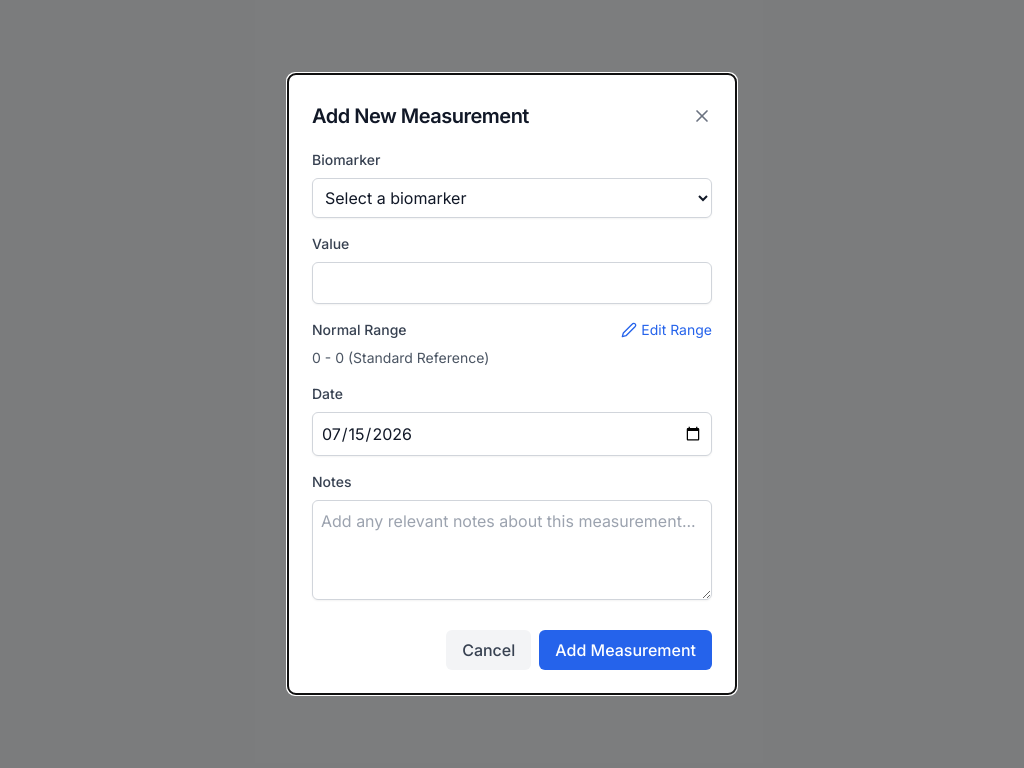
Test: AddMeasurementModal › Form Submission › keeps the modal open and shows an inline error when the save fails
Select "Glucose" in the dropdown at (512, 198), box [312,178,712,218]
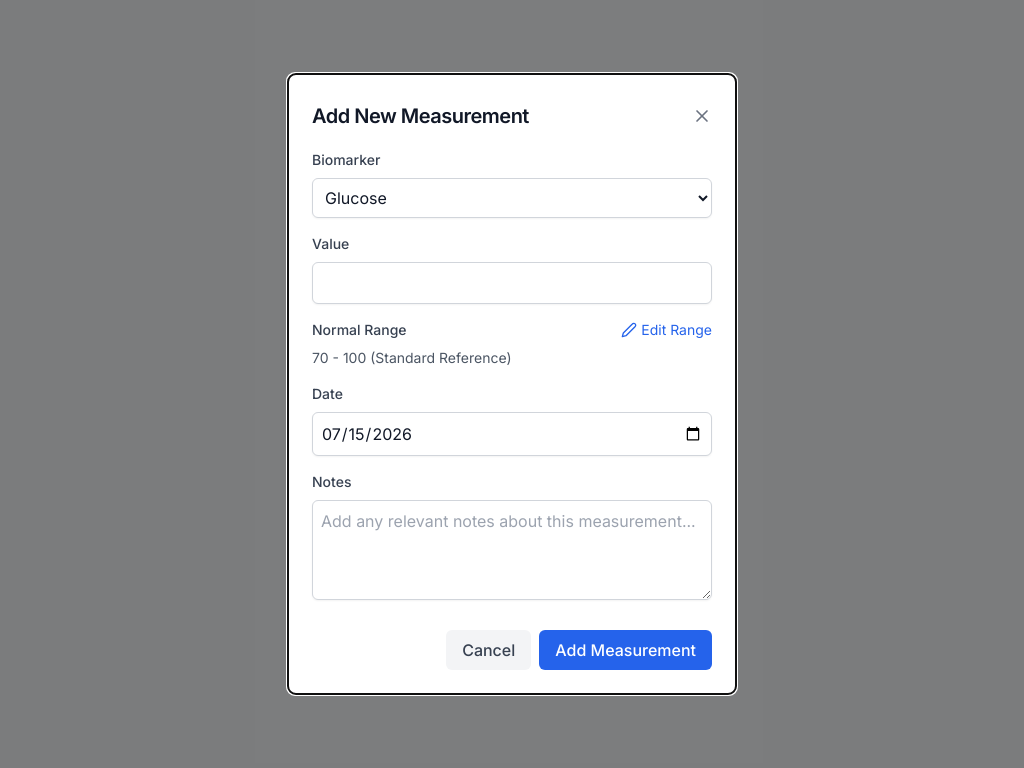
Type "95" into the number field.
click(512, 283); type("95")  # box [312,262,712,304]
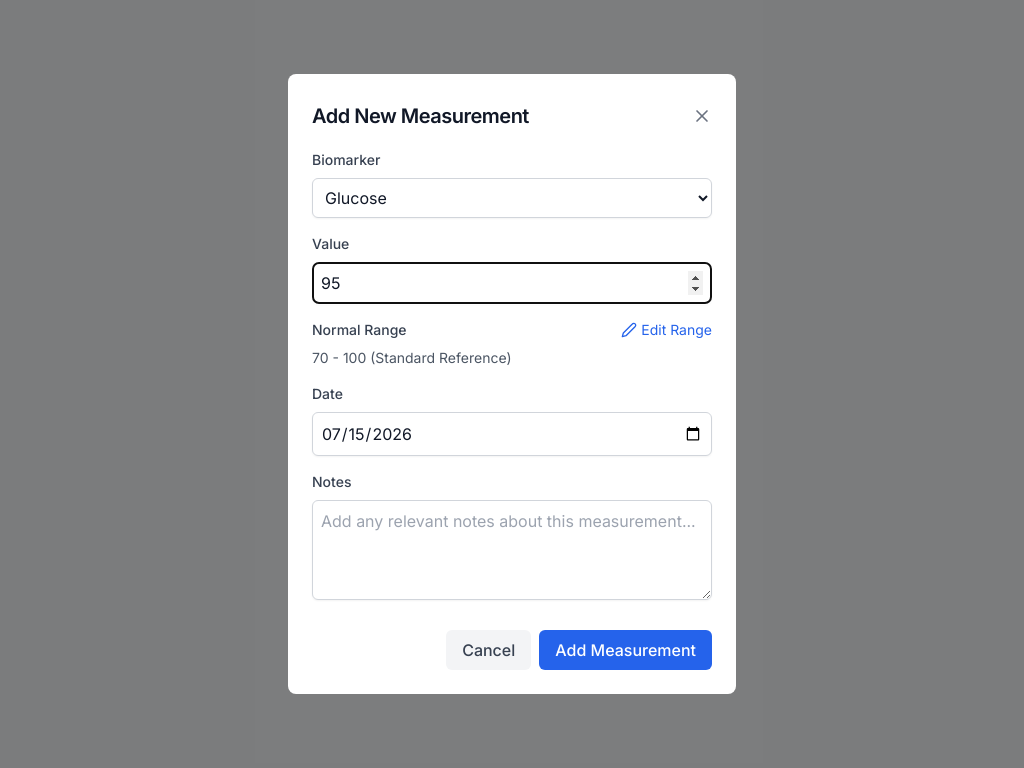
Click the button "Add Measurement".
click(626, 650)  # box [539,630,712,670]
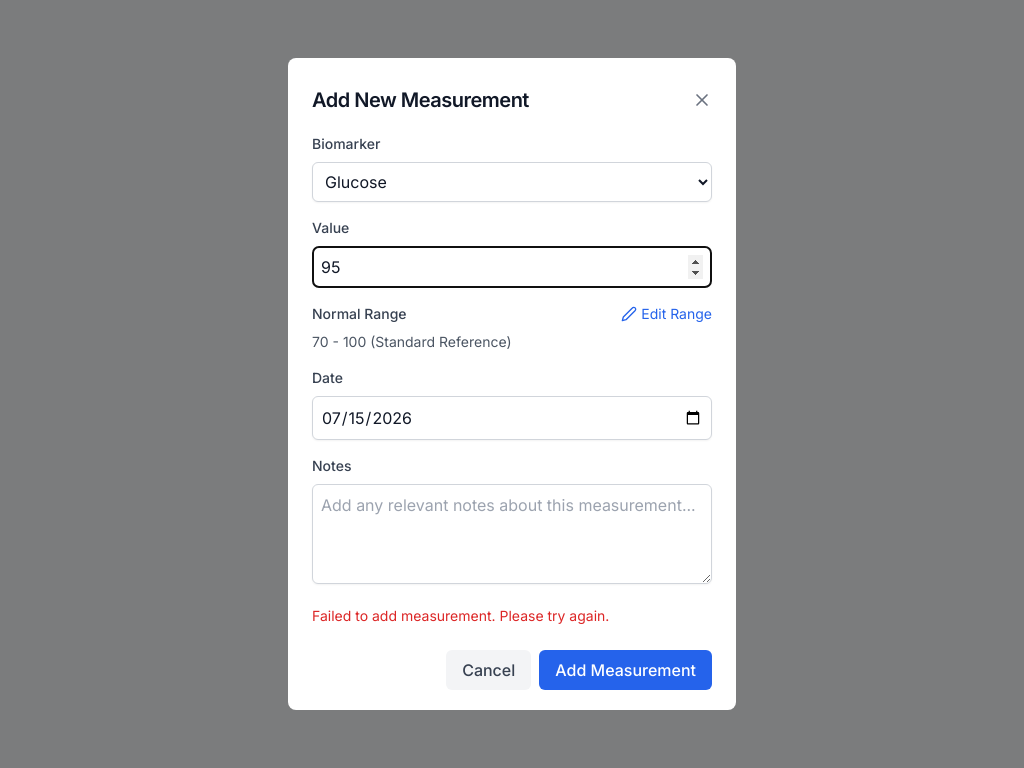
Expected: the button "Add Measurement" is enabled, [539,650,712,690]
Expected: the message shows "Failed to add measurement", [312,607,609,624]
